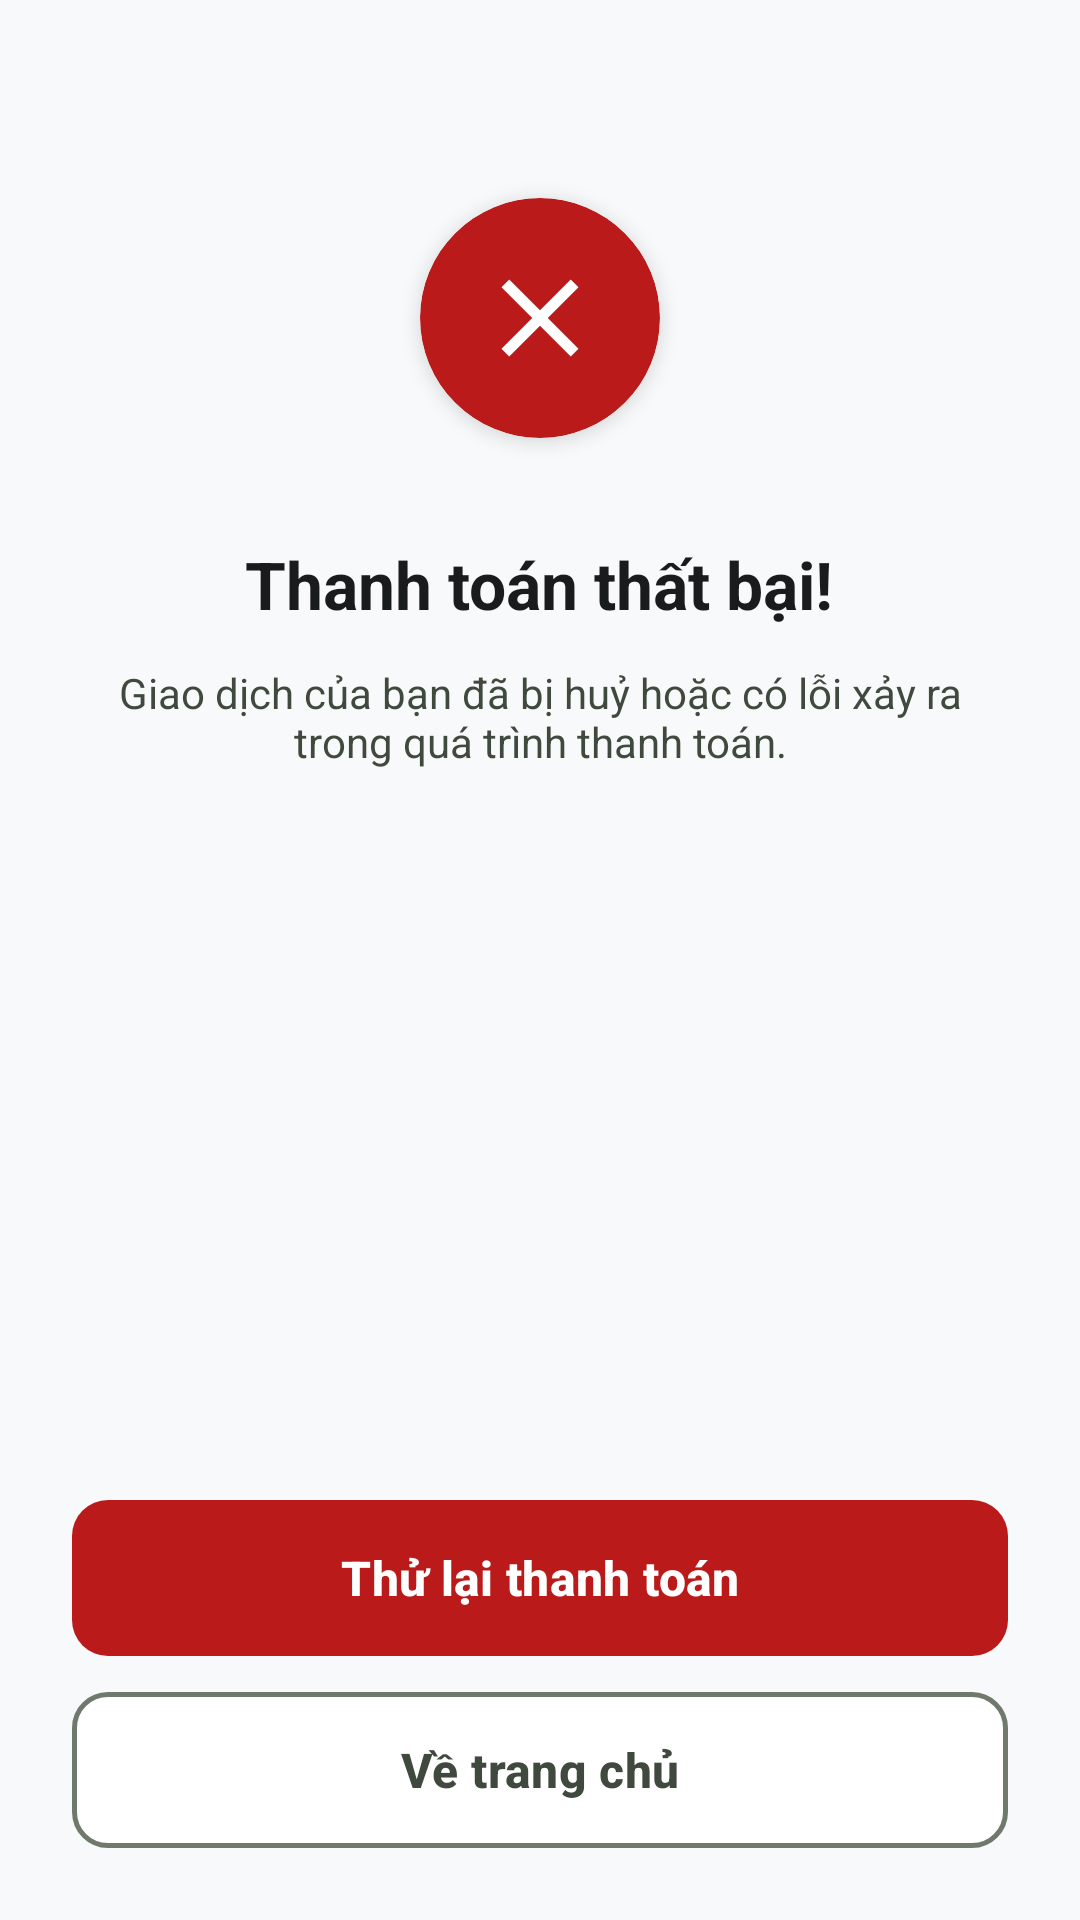

Where icons sit on this 1080px×1920px app screen, as (x1, y1, x2, y2):
Error mark: (501, 279, 579, 357)
